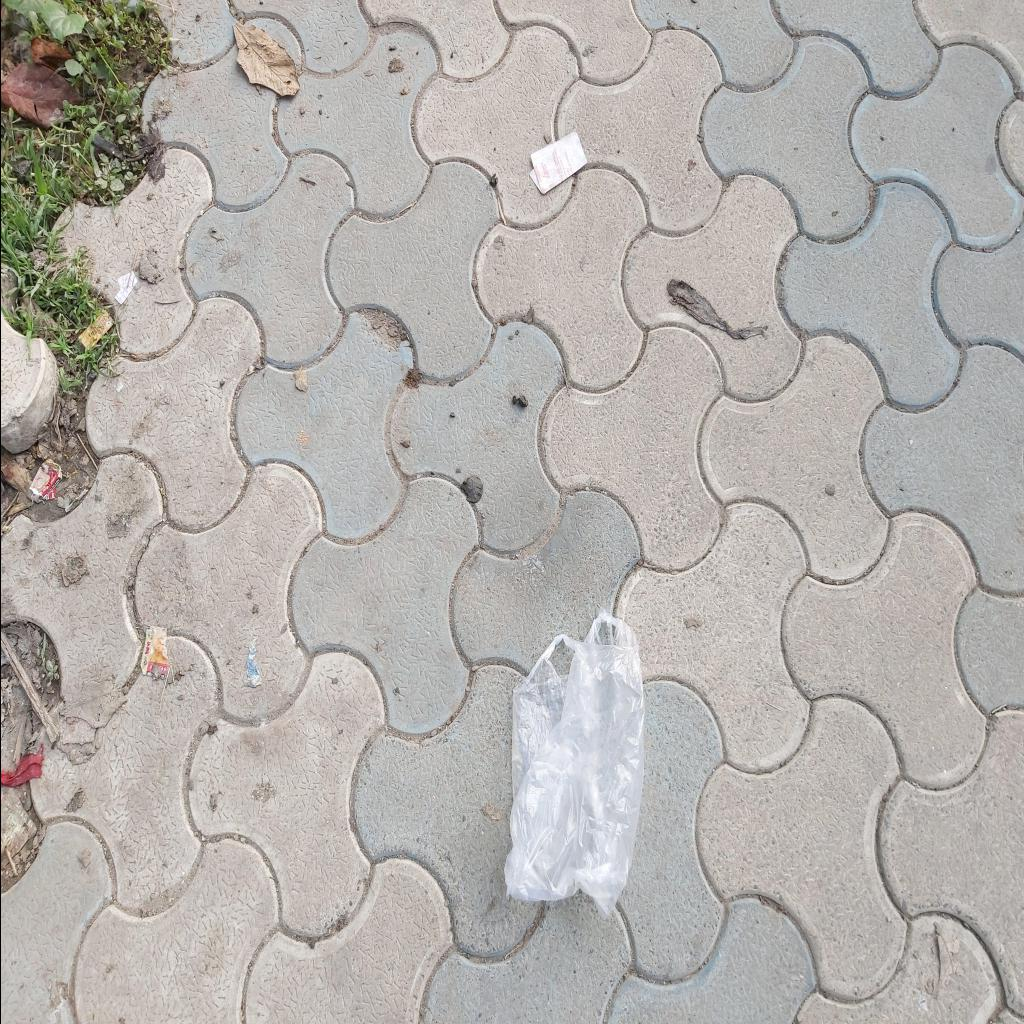Normal paper: (528, 133, 586, 195)
Other carton: (138, 626, 168, 679), (112, 272, 138, 306)
Other plastic: (76, 308, 114, 350), (28, 458, 62, 500)
Single-use carrier bag: (502, 607, 644, 921)
Unlabeled litter: (243, 638, 260, 688)
